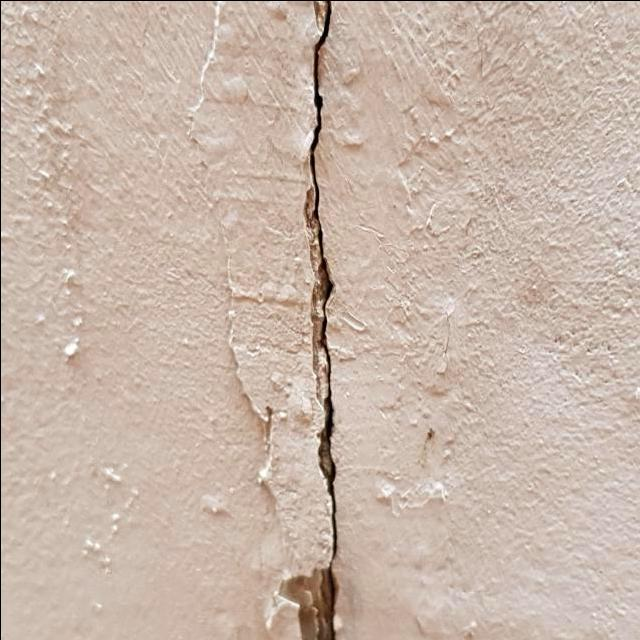SurfaceCrack: (236, 0, 389, 640)
